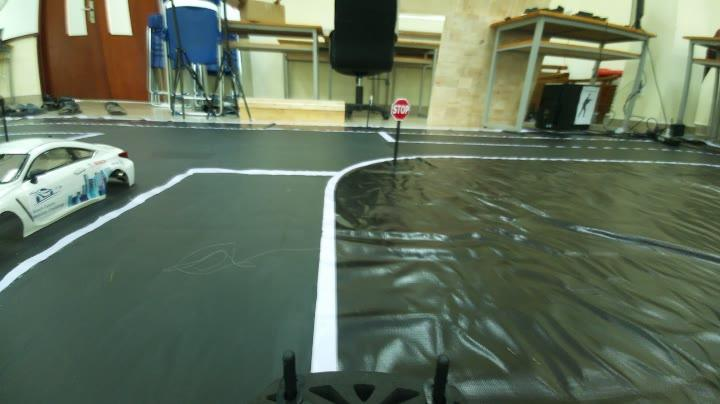stop: (383, 92, 421, 123)
